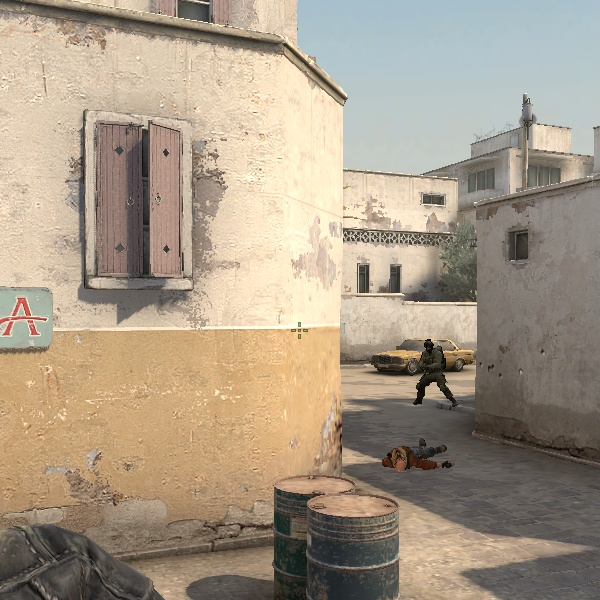ct_body: (409, 338, 450, 408)
